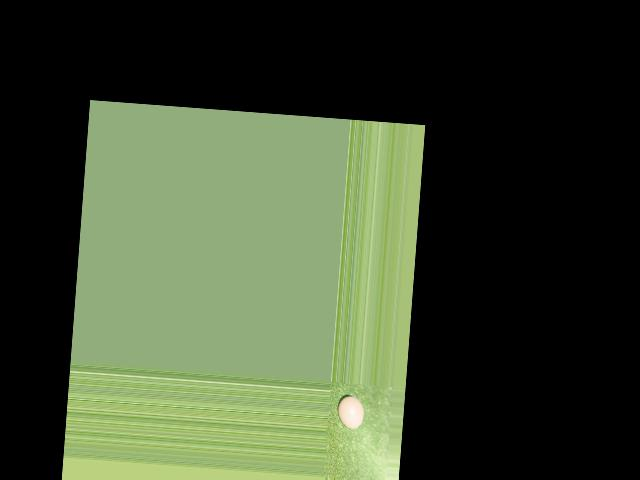egg: (336, 395, 364, 430)
